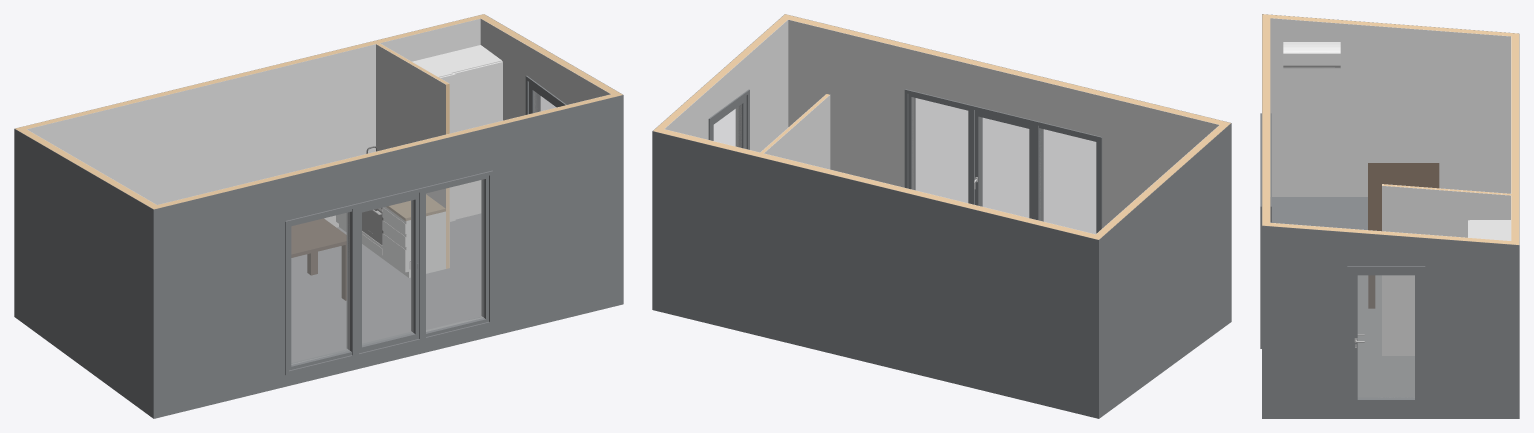
File: inga.baksiene@gmail.fbx
The picture shows the model from 3 angles, left to right: view 1: azimuth 30°, elevation 25°; view 2: azimuth 150°, elevation 25°; view 3: azimuth 270°, elevation 25°; orthographic projection. The views are drawn at different scales.
Visible parts, largest first — view 1: IfcWall/Part:2345357, IfcWall/Part:2345365, IfcWall/Part:2345363, IfcSlab/Floor:Sumustinis pilnas 145mm:2379064, IfcWindow/Langai (Akrusta):1000x2100x120:2435641, IfcWindow/Langai (Akrusta):1000x2100x120:2435779, IfcWindow/Langai (Akrusta):1000x2100x120 (dešininis):2428558, IfcFurnishingElement/Ikea spinta:600 x 2100 x 1500mm:2433943, IfcWall/Part:2391472, IfcWall/Part:2345359, IfcFurnishingElement/Casework 2:Casework 2:2436839, IfcWall/Part:2345367 (+9 smaller); view 2: IfcWall/Part:2345366, IfcWall/Part:2345356, IfcWall/Part:2345363, IfcWindow/Langai (Akrusta):1000x2100x120:2435779, IfcWindow/Langai (Akrusta):1000x2100x120:2435641, IfcWall/Part:2345359, IfcWindow/Langai (Akrusta):1000x2100x120 (dešininis):2428558, IfcWall/Part:2391472, IfcWall/Part:2345367, IfcWall/Part:2345358, IfcDoor/Durys išorinės:1000x2100x120 (dešininės):2425455, IfcWall/Part:2345364 (+1 smaller); view 3: IfcWall/Part:2345360, IfcWall/Part:2345362, IfcDoor/Durys išorinės:1000x2100x120 (dešininės):2425455, IfcWall/Part:2391471, IfcSlab/Floor:Sumustinis pilnas 145mm:2379064, IfcFurnishingElement/Casework 2:Casework 2:2436839, IfcWall/Part:2345367, IfcWall/Part:2345358, IfcEnergyConversionDevice/Fujitsu General_ASUA30-36TLAV1:ASU, IfcWall/Part:2345364, IfcWall/Part:2345361, IfcFurnishingElement/Ikea spinta:600 x 2100 x 1500mm:2433943 (+4 smaller).
Part boxes in pixels (x1=…): IfcWall/Part:2345357: x1=154, y1=95, x2=623, y2=418; IfcWall/Part:2345365: x1=27, y1=18, x2=480, y2=227; IfcWall/Part:2345363: x1=14, y1=128, x2=153, y2=418; IfcSlab/Floor:Sumustinis pilnas 145mm:2379064: x1=291, y1=213, x2=481, y2=361; IfcWindow/Langai (Akrusta):1000x2100x120:2435641: x1=419, y1=170, x2=493, y2=341; IfcWindow/Langai (Akrusta):1000x2100x120:2435779: x1=285, y1=203, x2=358, y2=375; IfcWindow/Langai (Akrusta):1000x2100x120 (dešininis):2428558: x1=346, y1=187, x2=425, y2=358; IfcFurnishingElement/Ikea spinta:600 x 2100 x 1500mm:2433943: x1=412, y1=45, x2=502, y2=221; IfcWall/Part:2391472: x1=376, y1=44, x2=445, y2=208; IfcWall/Part:2345359: x1=480, y1=19, x2=610, y2=120; IfcFurnishingElement/Casework 2:Casework 2:2436839: x1=291, y1=218, x2=346, y2=300; IfcWall/Part:2345367: x1=15, y1=14, x2=487, y2=130; IfcWall/Part:2345366: x1=652, y1=131, x2=1099, y2=418; IfcWall/Part:2345356: x1=788, y1=19, x2=1218, y2=227; IfcWall/Part:2345363: x1=1099, y1=123, x2=1231, y2=418; IfcWindow/Langai (Akrusta):1000x2100x120:2435779: x1=1032, y1=120, x2=1102, y2=233; IfcWindow/Langai (Akrusta):1000x2100x120:2435641: x1=904, y1=89, x2=974, y2=204; IfcWall/Part:2345359: x1=664, y1=20, x2=788, y2=152; IfcWindow/Langai (Akrusta):1000x2100x120 (dešininis):2428558: x1=968, y1=105, x2=1043, y2=220; IfcWall/Part:2391472: x1=764, y1=95, x2=830, y2=169; IfcWall/Part:2345367: x1=653, y1=127, x2=1102, y2=239; IfcWall/Part:2345358: x1=781, y1=14, x2=1223, y2=124; IfcDoor/Durys išorinės:1000x2100x120 (dešininės):2425455: x1=708, y1=89, x2=749, y2=149; IfcWall/Part:2345364: x1=1096, y1=121, x2=1230, y2=236; IfcWall/Part:2345360: x1=1262, y1=225, x2=1519, y2=418; IfcWall/Part:2345362: x1=1270, y1=18, x2=1510, y2=196; IfcDoor/Durys išorinės:1000x2100x120 (dešininės):2425455: x1=1347, y1=266, x2=1425, y2=405; IfcWall/Part:2391471: x1=1382, y1=185, x2=1510, y2=355; IfcSlab/Floor:Sumustinis pilnas 145mm:2379064: x1=1270, y1=197, x2=1414, y2=396; IfcFurnishingElement/Casework 2:Casework 2:2436839: x1=1368, y1=163, x2=1439, y2=308; IfcWall/Part:2345367: x1=1511, y1=33, x2=1519, y2=244; IfcWall/Part:2345358: x1=1262, y1=17, x2=1270, y2=225; IfcEnergyConversionDevice/Fujitsu General_ASUA30-36TLAV1:ASU: x1=1283, y1=42, x2=1340, y2=68; IfcWall/Part:2345364: x1=1262, y1=14, x2=1511, y2=36; IfcWall/Part:2345361: x1=1270, y1=223, x2=1511, y2=244; IfcFurnishingElement/Ikea spinta:600 x 2100 x 1500mm:2433943: x1=1468, y1=220, x2=1510, y2=240.
Size of the model in its own units: 706 by 298 by 362.
